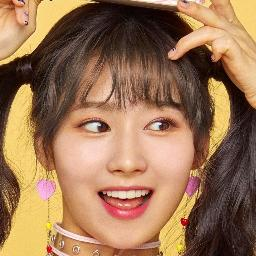face: (60, 82, 190, 238)
